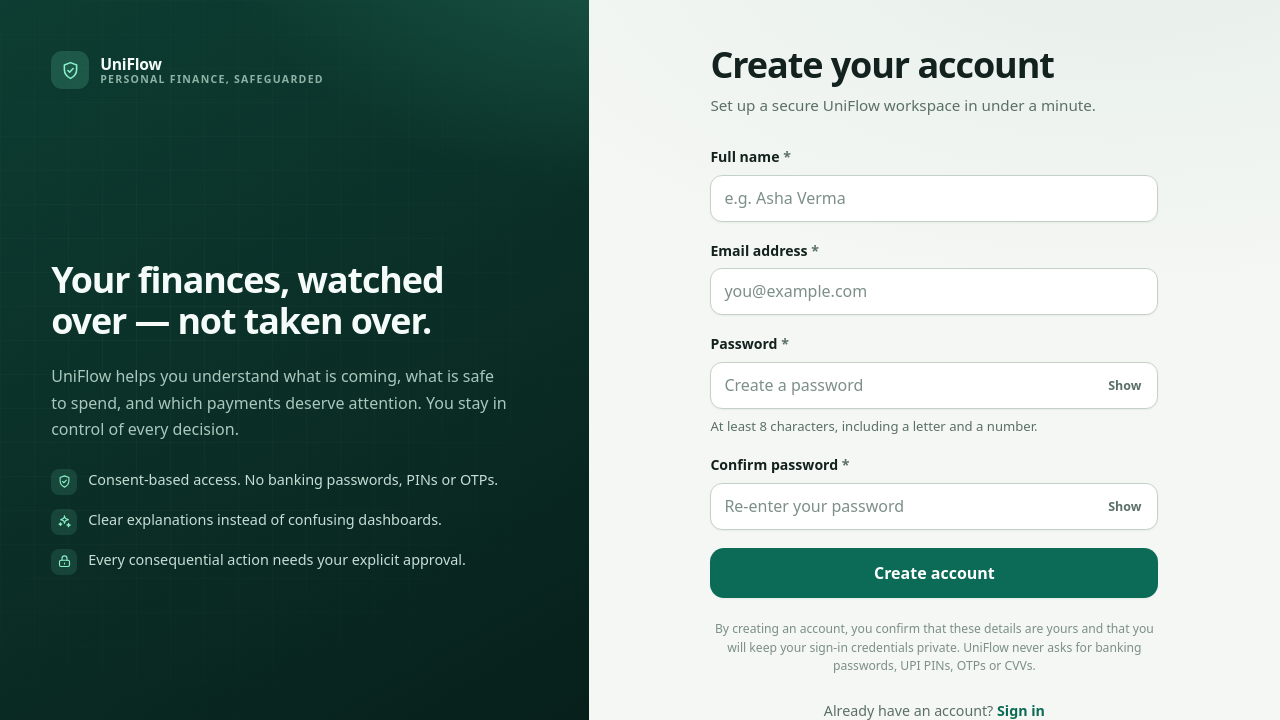
Test case: registration form › shows API errors such as a duplicate email
Type "  Asha   Verma " into the field labelled "Full name *".
click(934, 198); type("  Asha   Verma ")  # box top-left (710, 175), bottom-right (1158, 222)
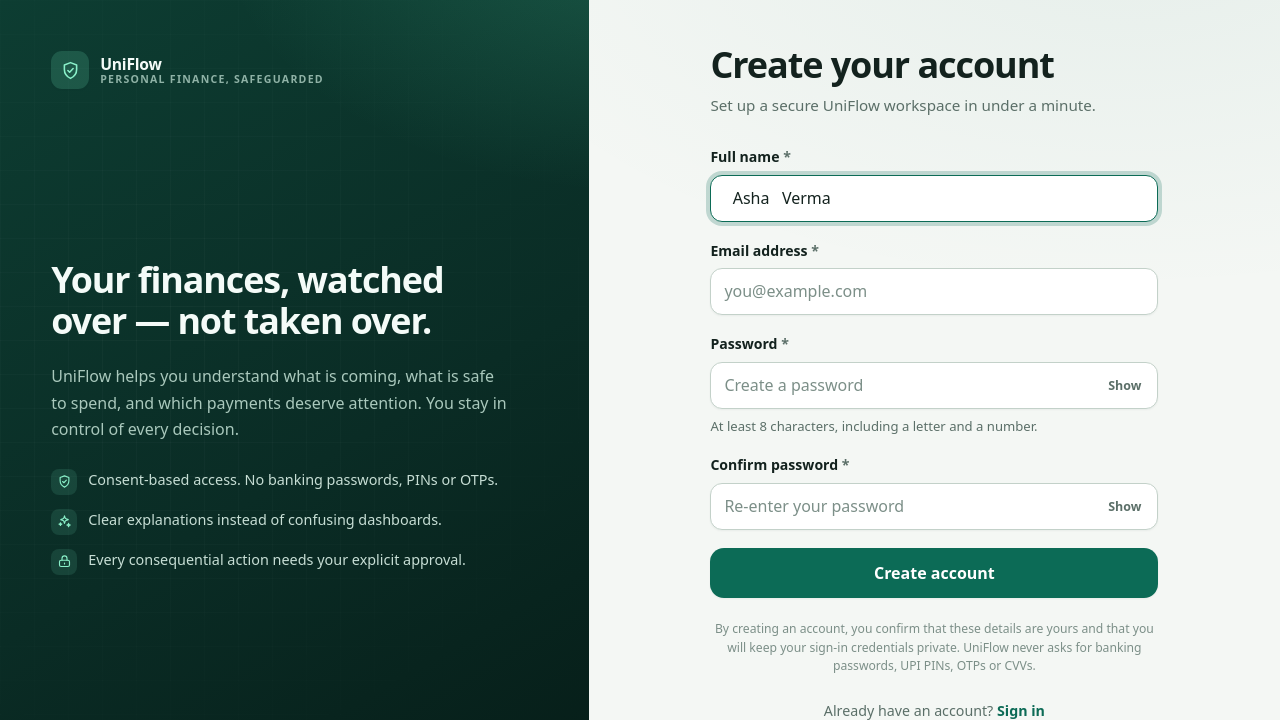
Type "Asha@Example.com" into the field labelled "Email address *".
click(934, 292); type("Asha@Example.com")  # box top-left (710, 268), bottom-right (1158, 315)
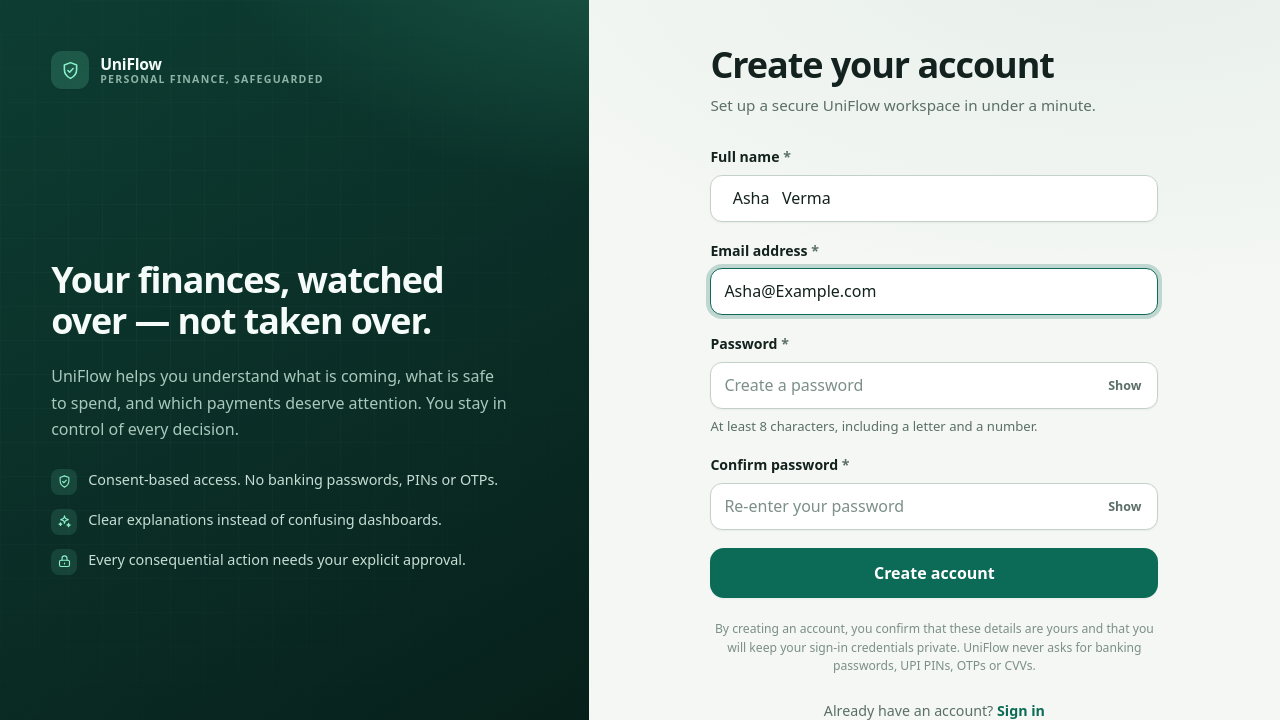
Type "Guardian123" into the password field labelled "Password *".
click(934, 385); type("Guardian123")  # box top-left (710, 362), bottom-right (1158, 409)
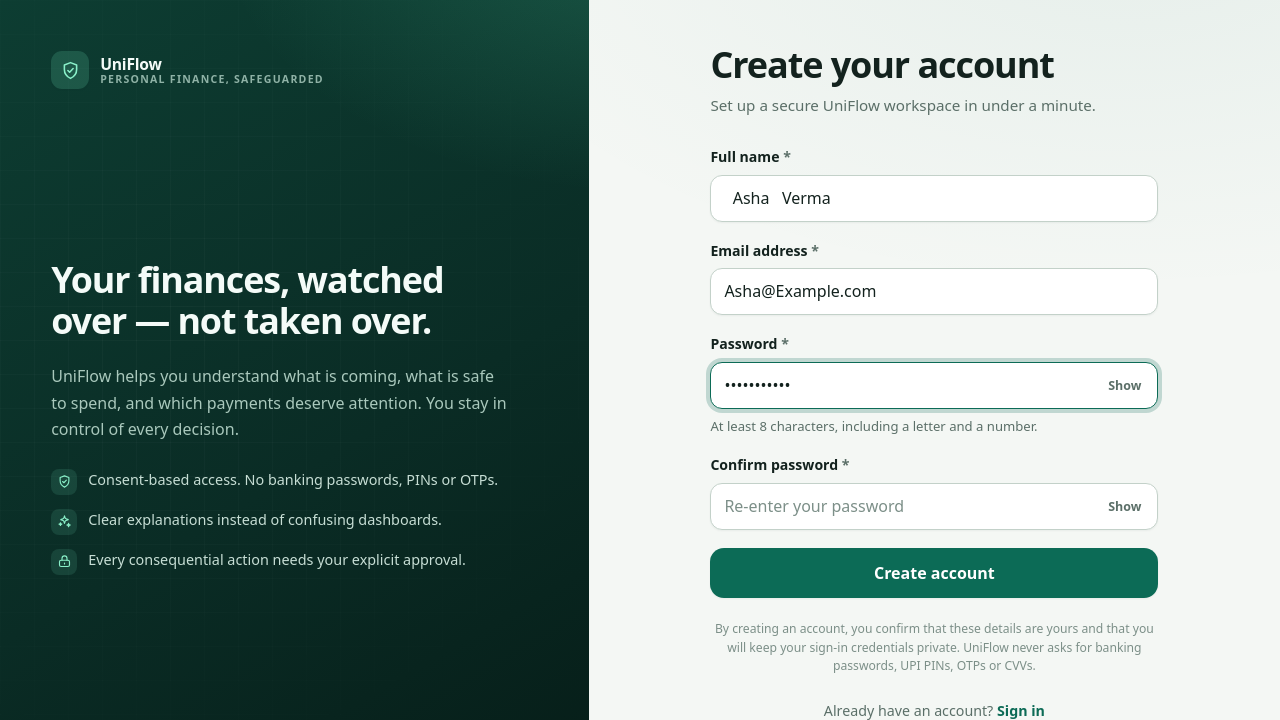
Type "Guardian123" into the password field labelled "Confirm password *".
click(934, 506); type("Guardian123")  # box top-left (710, 483), bottom-right (1158, 530)
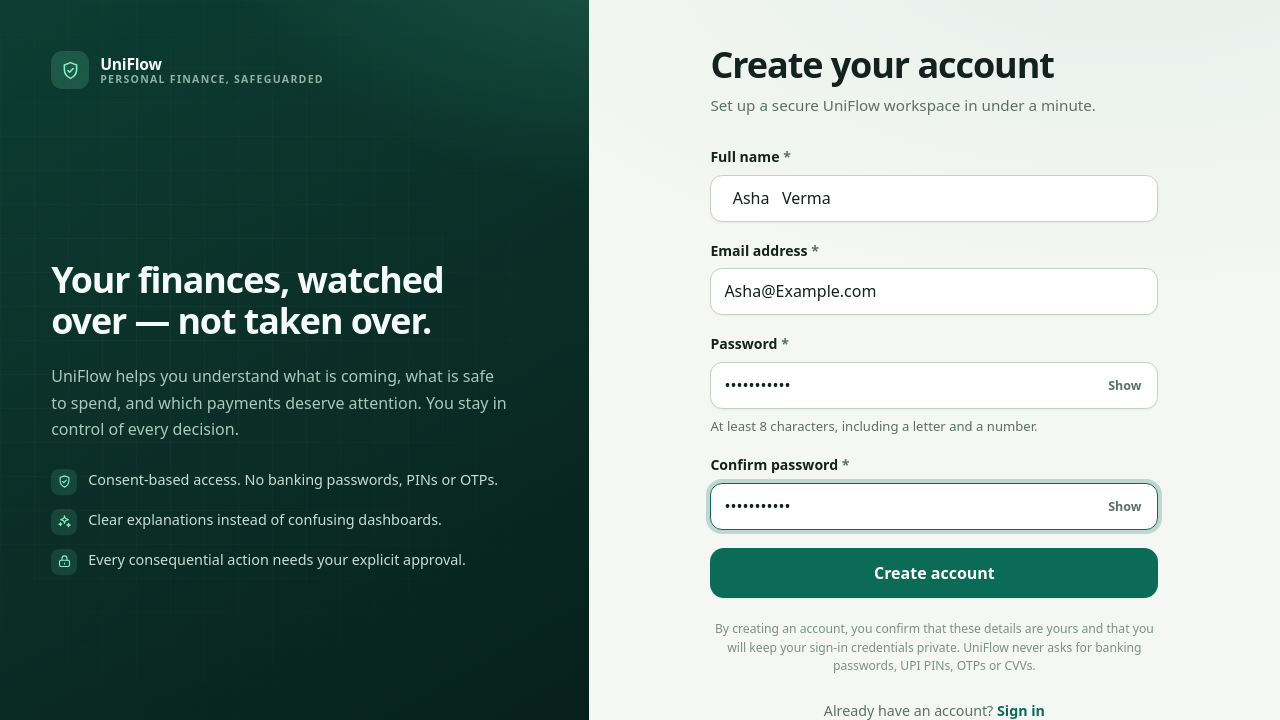
Click the button "Create account".
click(934, 573)  # box top-left (710, 548), bottom-right (1158, 598)
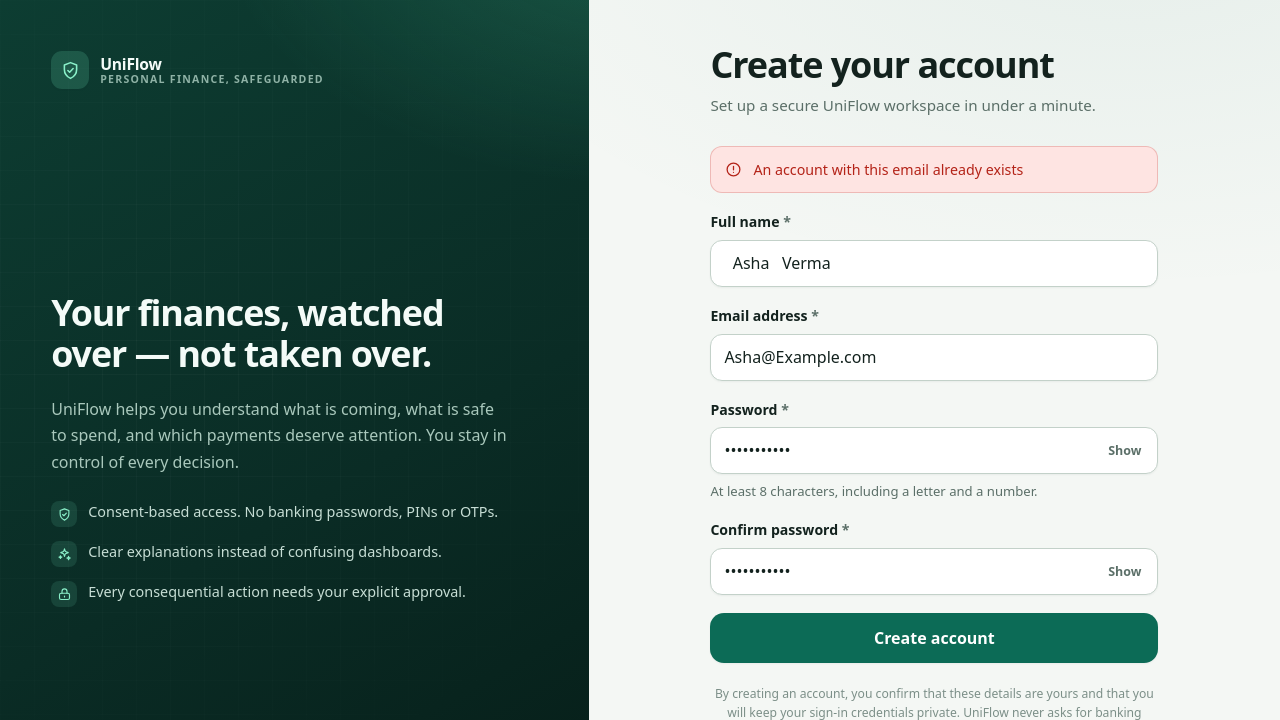
Expected: the button "Create account" is enabled, top-left (710, 613), bottom-right (1158, 663)
Expected: the text "An account with this email already exists" is shown, top-left (753, 159), bottom-right (1023, 180)
